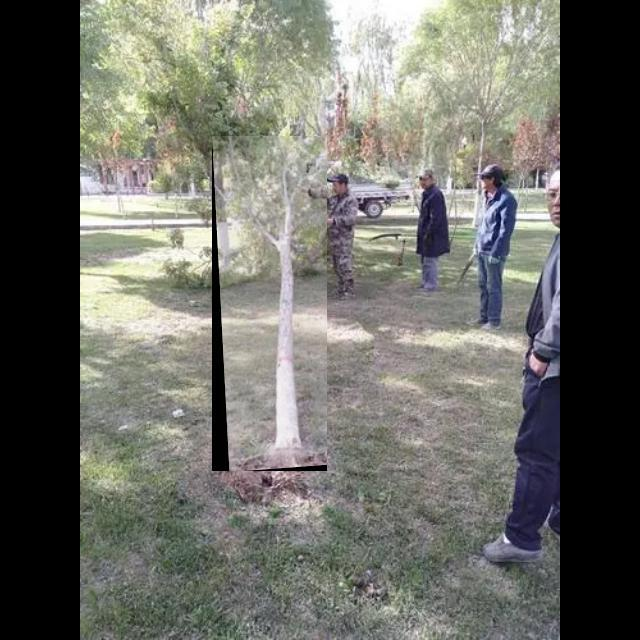fallen_tree: (212, 136, 328, 472)
